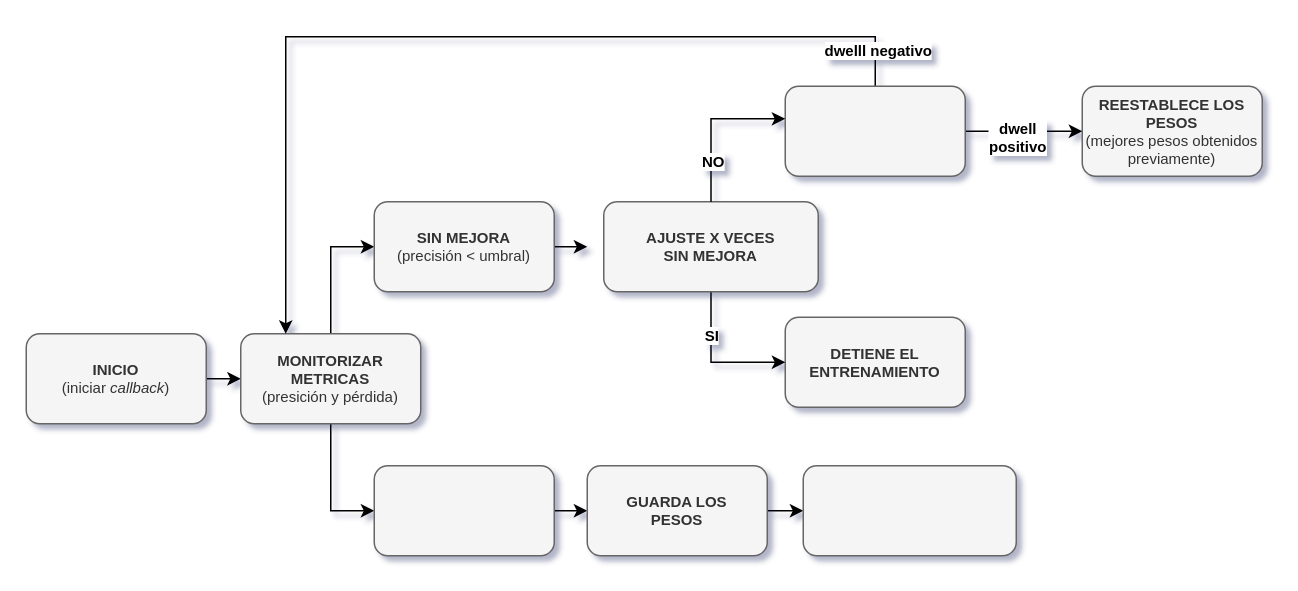
The diagram is 1298 pixels wide and 591 high, and some of its shapes have lost their labels. The shapes that lost their labels are listed below. From the top down, each one's centre as x and y in pixels, then its label:
point (874, 130): AJUSTA LR (multiplicación por factor )
point (463, 510): MEJORA (precisión >= umbral)
point (909, 510): AJUSTA METRICA A MONITORIZAR (pérdida de validación)
